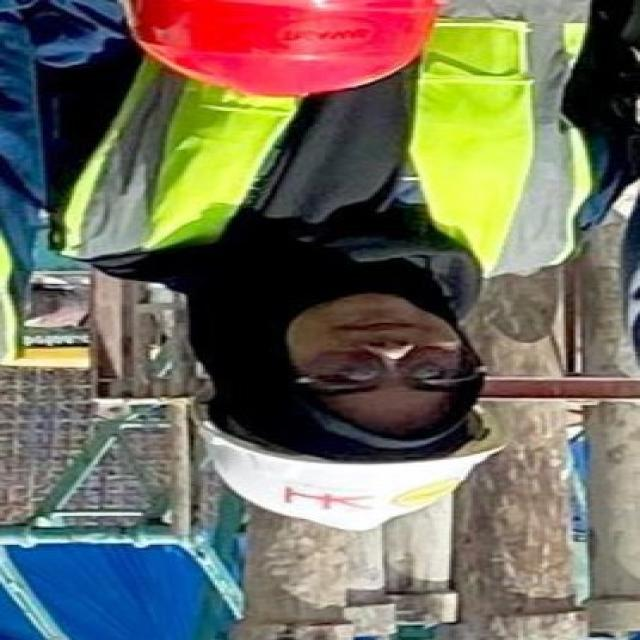safetyhelmet: (198, 345, 513, 531)
